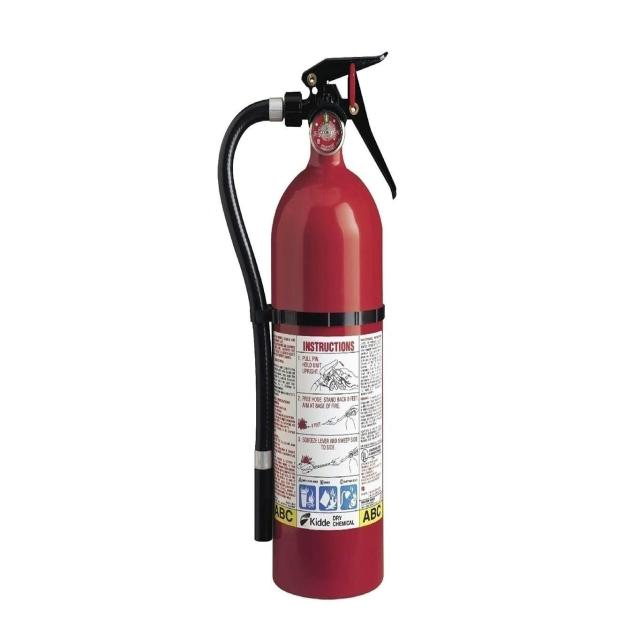fire_extinguisher: (212, 46, 400, 606)
